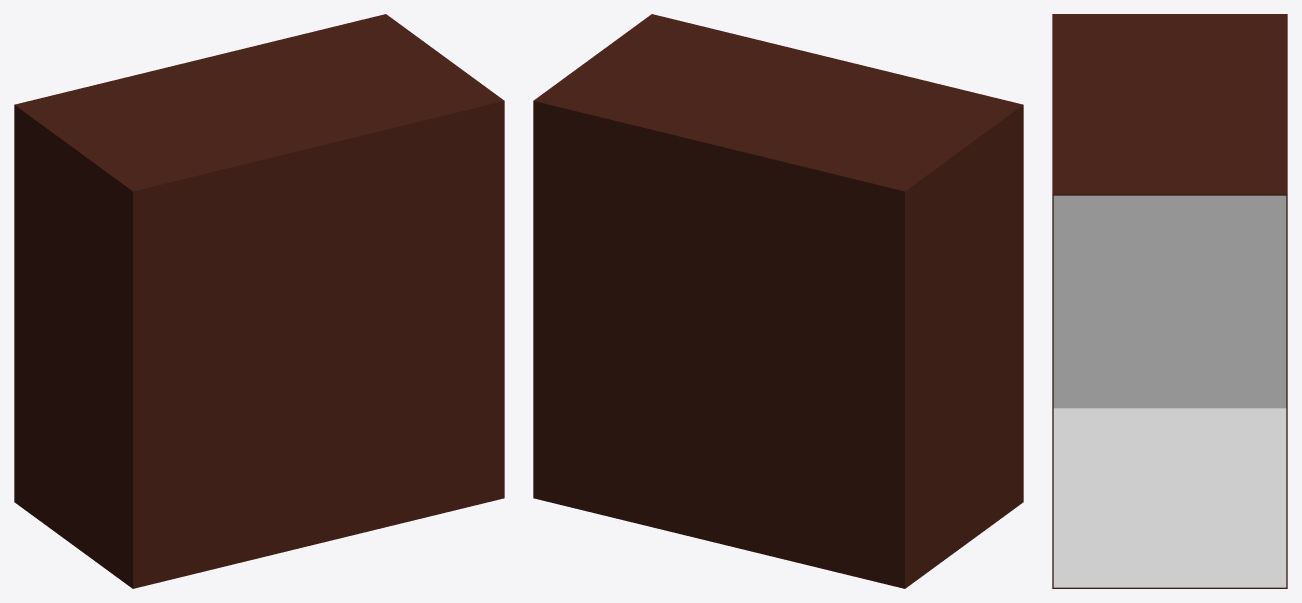
File: puerta_interior.fbx
3 renders of one model, left to right at view 1: azimuth 30°, elevation 25°; view 2: azimuth 150°, elevation 25°; view 3: azimuth 270°, elevation 25°, orthographic.
Visible parts, largest first — view 1: Cube.003; view 2: Cube.003; view 3: Cube.003.
Boxes of the visible parts, left/top/right/bottom form: Cube.003: left=14, top=14, right=504, bottom=588; Cube.003: left=533, top=14, right=1023, bottom=588; Cube.003: left=1052, top=14, right=1287, bottom=588.
Size of the model in its own units: 200 by 204 by 111.
